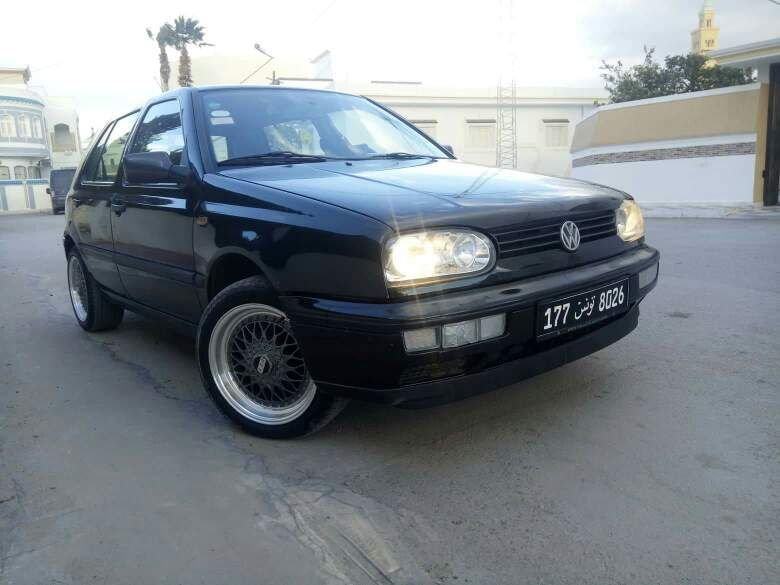LP: (536, 275, 631, 338)
